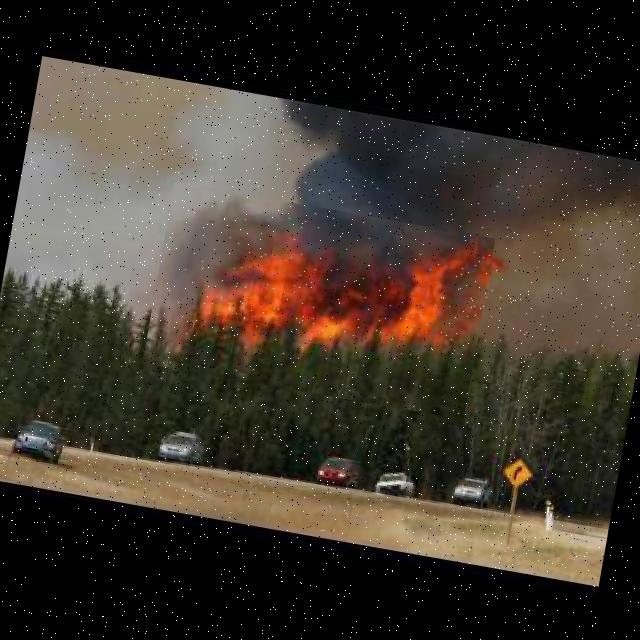fire: (142, 182, 495, 420)
